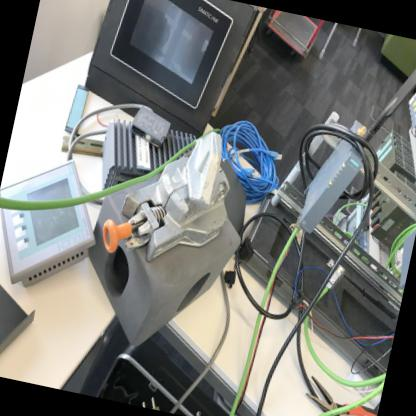CornerCasting: (68, 198, 244, 362)
Twistlock: (93, 105, 246, 280)
